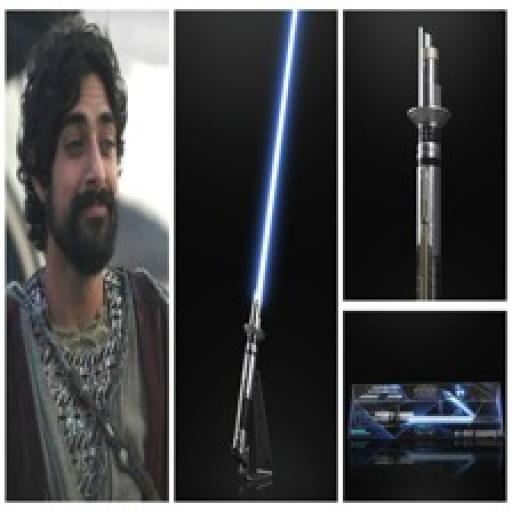lightsaber: (205, 11, 307, 458), (395, 16, 459, 295)
